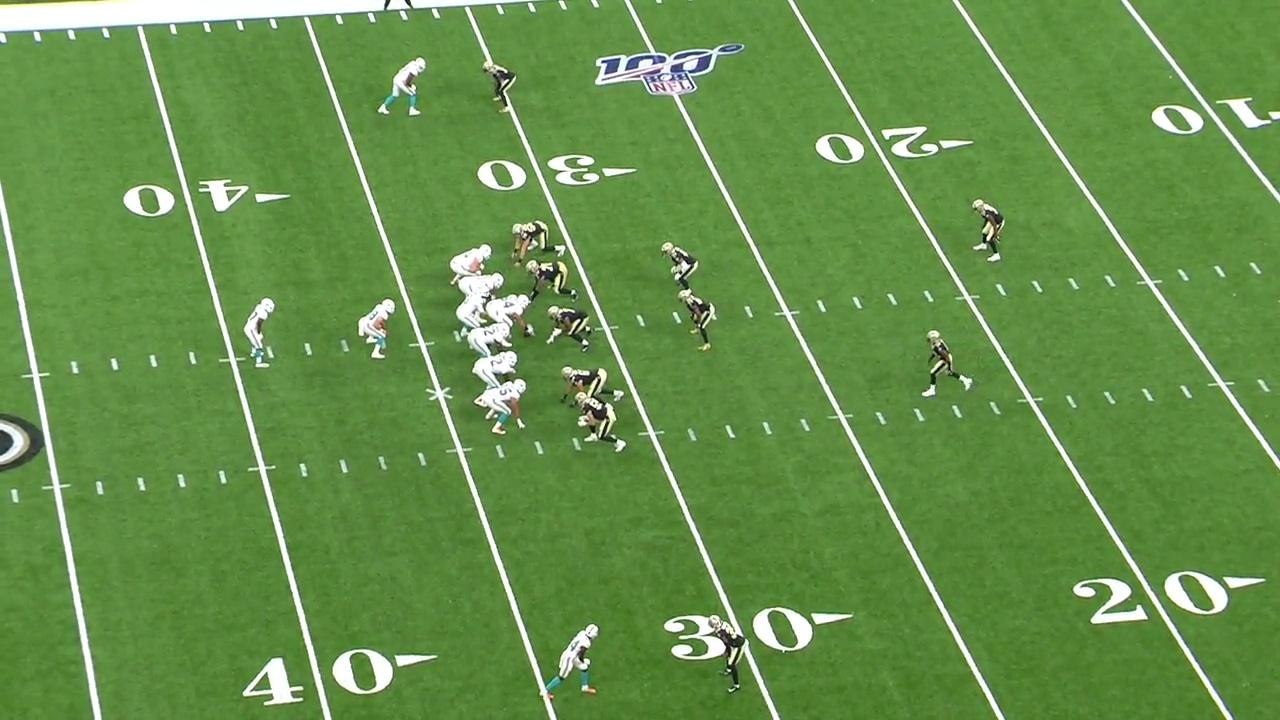player: (538, 621, 602, 703), (921, 328, 976, 400), (708, 612, 751, 697), (573, 390, 628, 455), (376, 55, 428, 117), (560, 365, 626, 412), (484, 291, 538, 348), (471, 349, 519, 409), (479, 378, 528, 436), (241, 294, 277, 370), (510, 219, 567, 267), (455, 270, 504, 325), (356, 296, 397, 361), (677, 288, 716, 355), (544, 304, 595, 354), (466, 321, 513, 375), (454, 282, 491, 350), (525, 259, 580, 303), (480, 55, 519, 117), (970, 198, 1006, 264), (661, 240, 701, 297), (448, 241, 494, 287)
